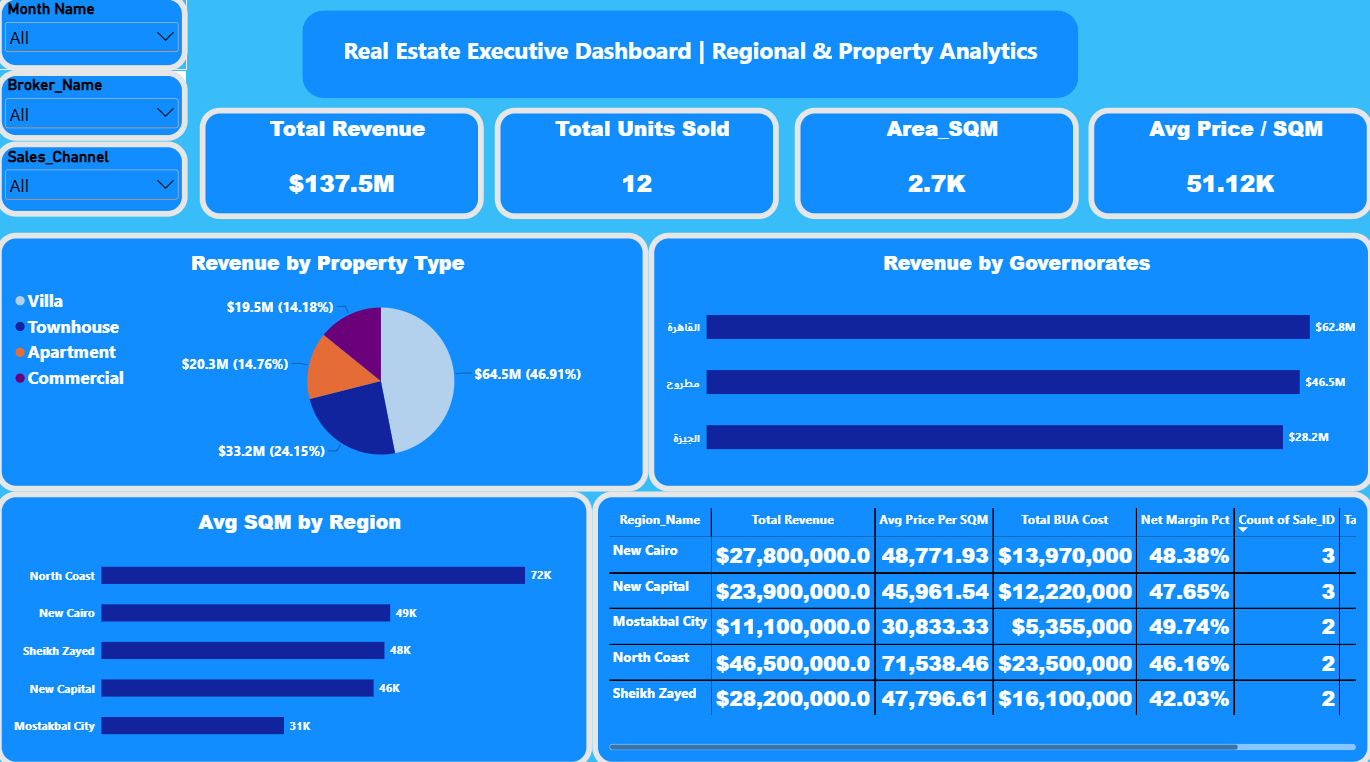

What the dashboard file says about the page in this screenshot:
{"tool":"powerbi","page":{"name":"Regional & Property Analytics","canvas":[1920,1080],"ordinal":2},"visuals":[{"type":"shape","box":[426.9,23.4,1082.5,122.5],"z":0},{"type":"textbox","box":[426.9,55.8,1082.5,66.6],"z":1000},{"type":"cardVisual","title":"Total Revenue","fields":{"Data":["Measures (2).Total Revenue"]},"box":[284.4,158.5,396.2,154.9],"z":2000},{"type":"cardVisual","title":"Total Units Sold","fields":{"Data":["CountNonNull(Fact_Sales.Sale_ID)"]},"box":[695,158.5,396.2,154.9],"z":3000},{"type":"cardVisual","title":"Area_SQM","fields":{"Data":["Sum(Dim_Properties.Area_SQM)"]},"box":[1112.9,158.5,396.2,154.9],"z":4000},{"type":"cardVisual","title":"Avg Price / SQM","fields":{"Data":["Measures (2).Avg Price Per SQM"]},"box":[1523.5,158.5,396.2,154.9],"z":5000},{"type":"barChart","title":"Revenue by Governorates","fields":{"Category":["Dim_Regions.City"],"Y":["Measures (2).Total Revenue"]},"box":[909.3,333.3,1011.1,361.1],"z":6000},{"type":"pieChart","title":"Revenue by Property Type","fields":{"Category":["Dim_Properties.Property_Type"],"Y":["Measures (2).Total Revenue"]},"box":[0,333.3,909.3,361.1],"z":7000},{"type":"barChart","title":"Avg SQM by Region","fields":{"Category":["Dim_Regions.Region_Name"],"Y":["Measures (2).Avg Price Per SQM"]},"box":[0,694.4,831.5,385.2],"z":8000},{"type":"pivotTable","title":"Revenue By Platform","fields":{"Rows":["Dim_Regions.Region_Name"],"Values":["Measures (2).Total Revenue","Measures (2).Avg Price Per SQM","Measures (2).Total BUA Cost","Measures (2).Net Margin Pct","CountNonNull(Fact_Sales.Sale_ID)","Measures (2).Target Attainment Pct"]},"box":[831.5,694.4,1088.9,385.2],"z":9000},{"type":"slicer","title":"Month","fields":{"Values":["Dim_Calendar.Month Name"]},"box":[0,0,267.4,106.9],"z":10000},{"type":"slicer","title":"Month","fields":{"Values":["Dim_Brokers.Broker_Name"]},"box":[0,106.9,267.4,98.7],"z":11000},{"type":"slicer","title":"Month","fields":{"Values":["Fact_Sales.Sales_Channel"]},"box":[0,205.7,267.4,104.9],"z":12000}]}

Visuals, with their boxes in screenshot pixels (x1, y1, x2, y2), scaled from the page's 1920x1080 canvas onto the 1370x762 screenshot:
shape: [305,17,1077,103]
textbox: [305,39,1077,86]
"Total Revenue" cardVisual: [203,112,486,221]
"Total Units Sold" cardVisual: [496,112,779,221]
"Area_SQM" cardVisual: [794,112,1077,221]
"Avg Price / SQM" cardVisual: [1087,112,1369,221]
"Revenue by Governorates" barChart: [649,235,1369,490]
"Revenue by Property Type" pieChart: [0,235,649,490]
"Avg SQM by Region" barChart: [0,490,593,761]
"Revenue By Platform" pivotTable: [593,490,1369,761]
"Month" slicer: [0,0,191,75]
"Month" slicer: [0,75,191,145]
"Month" slicer: [0,145,191,219]
